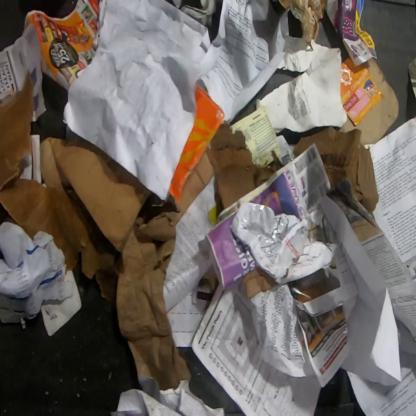cardboard: (115, 143, 215, 392), (40, 135, 152, 254), (288, 126, 379, 214), (169, 84, 226, 210), (210, 120, 285, 211), (338, 57, 399, 144), (243, 268, 283, 300)
